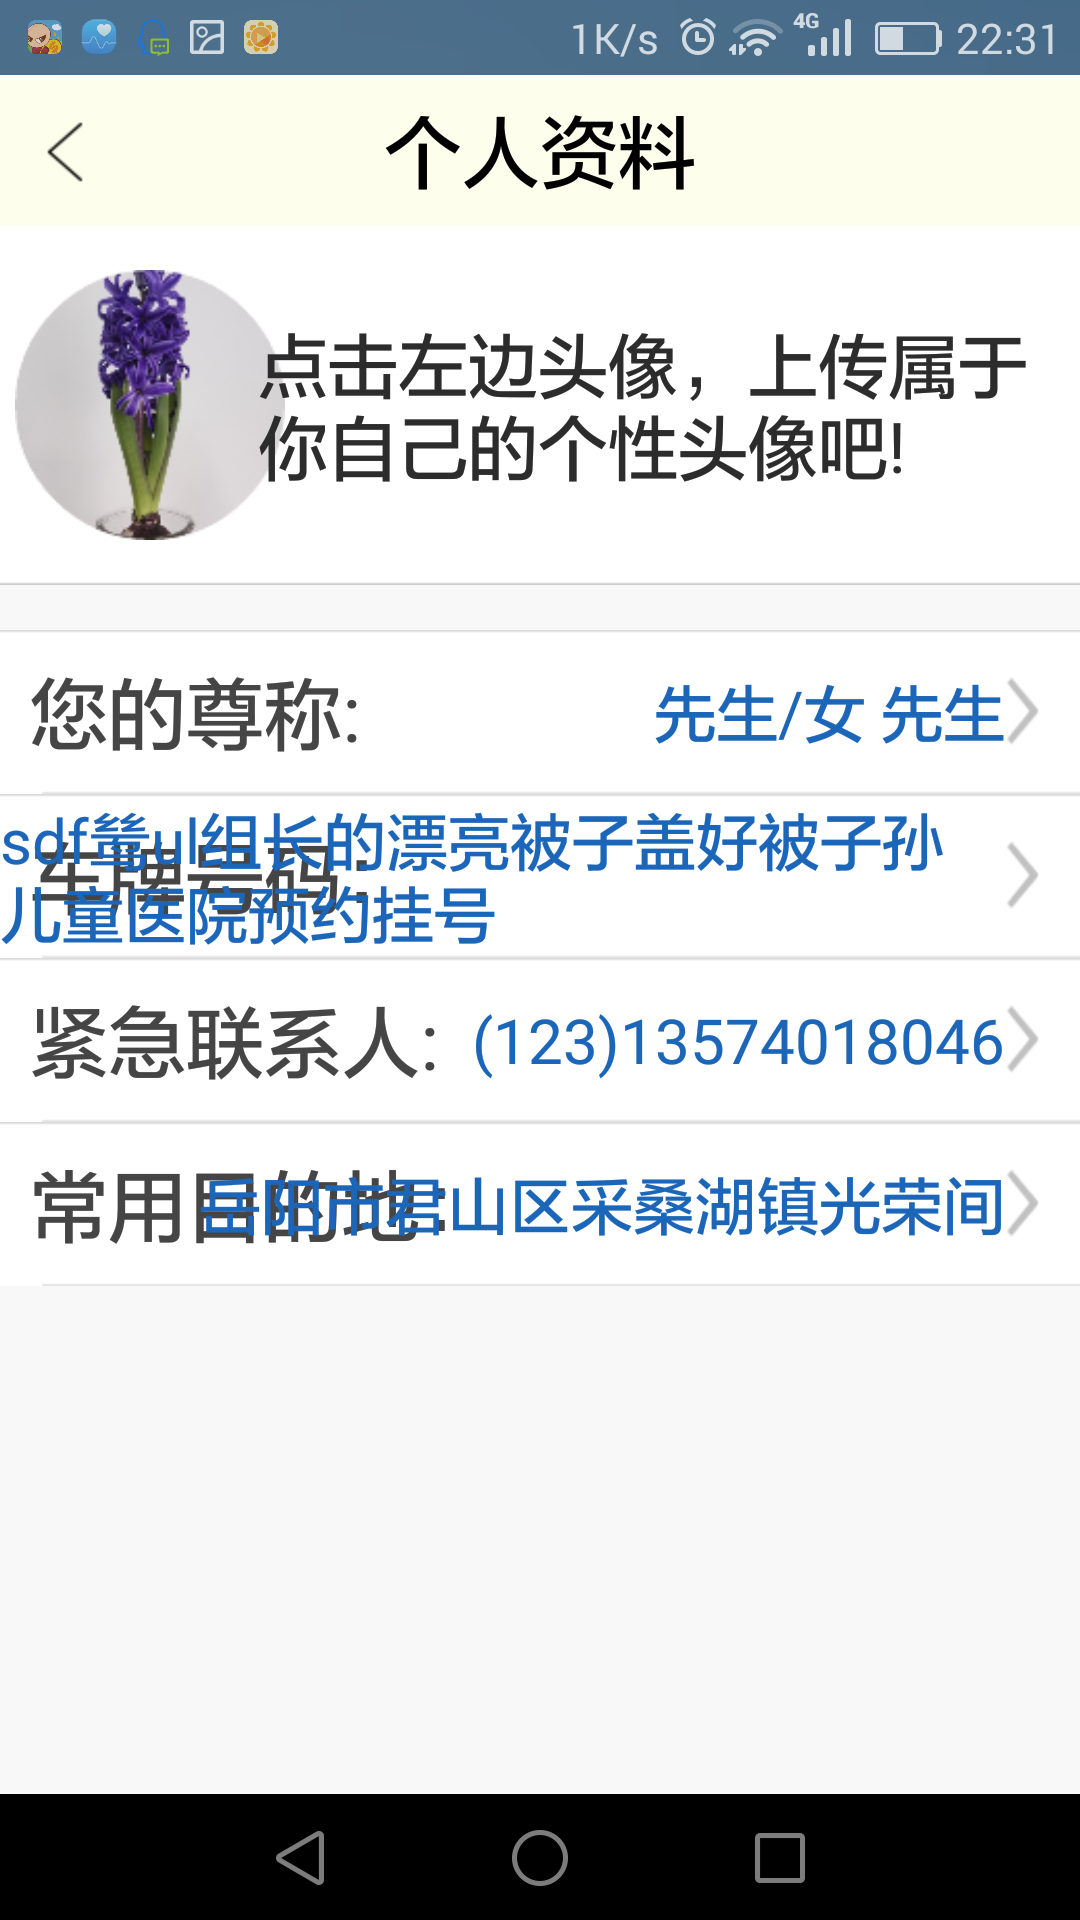imgbutton: (986, 812, 1055, 942)
textview: (253, 302, 1040, 508)
